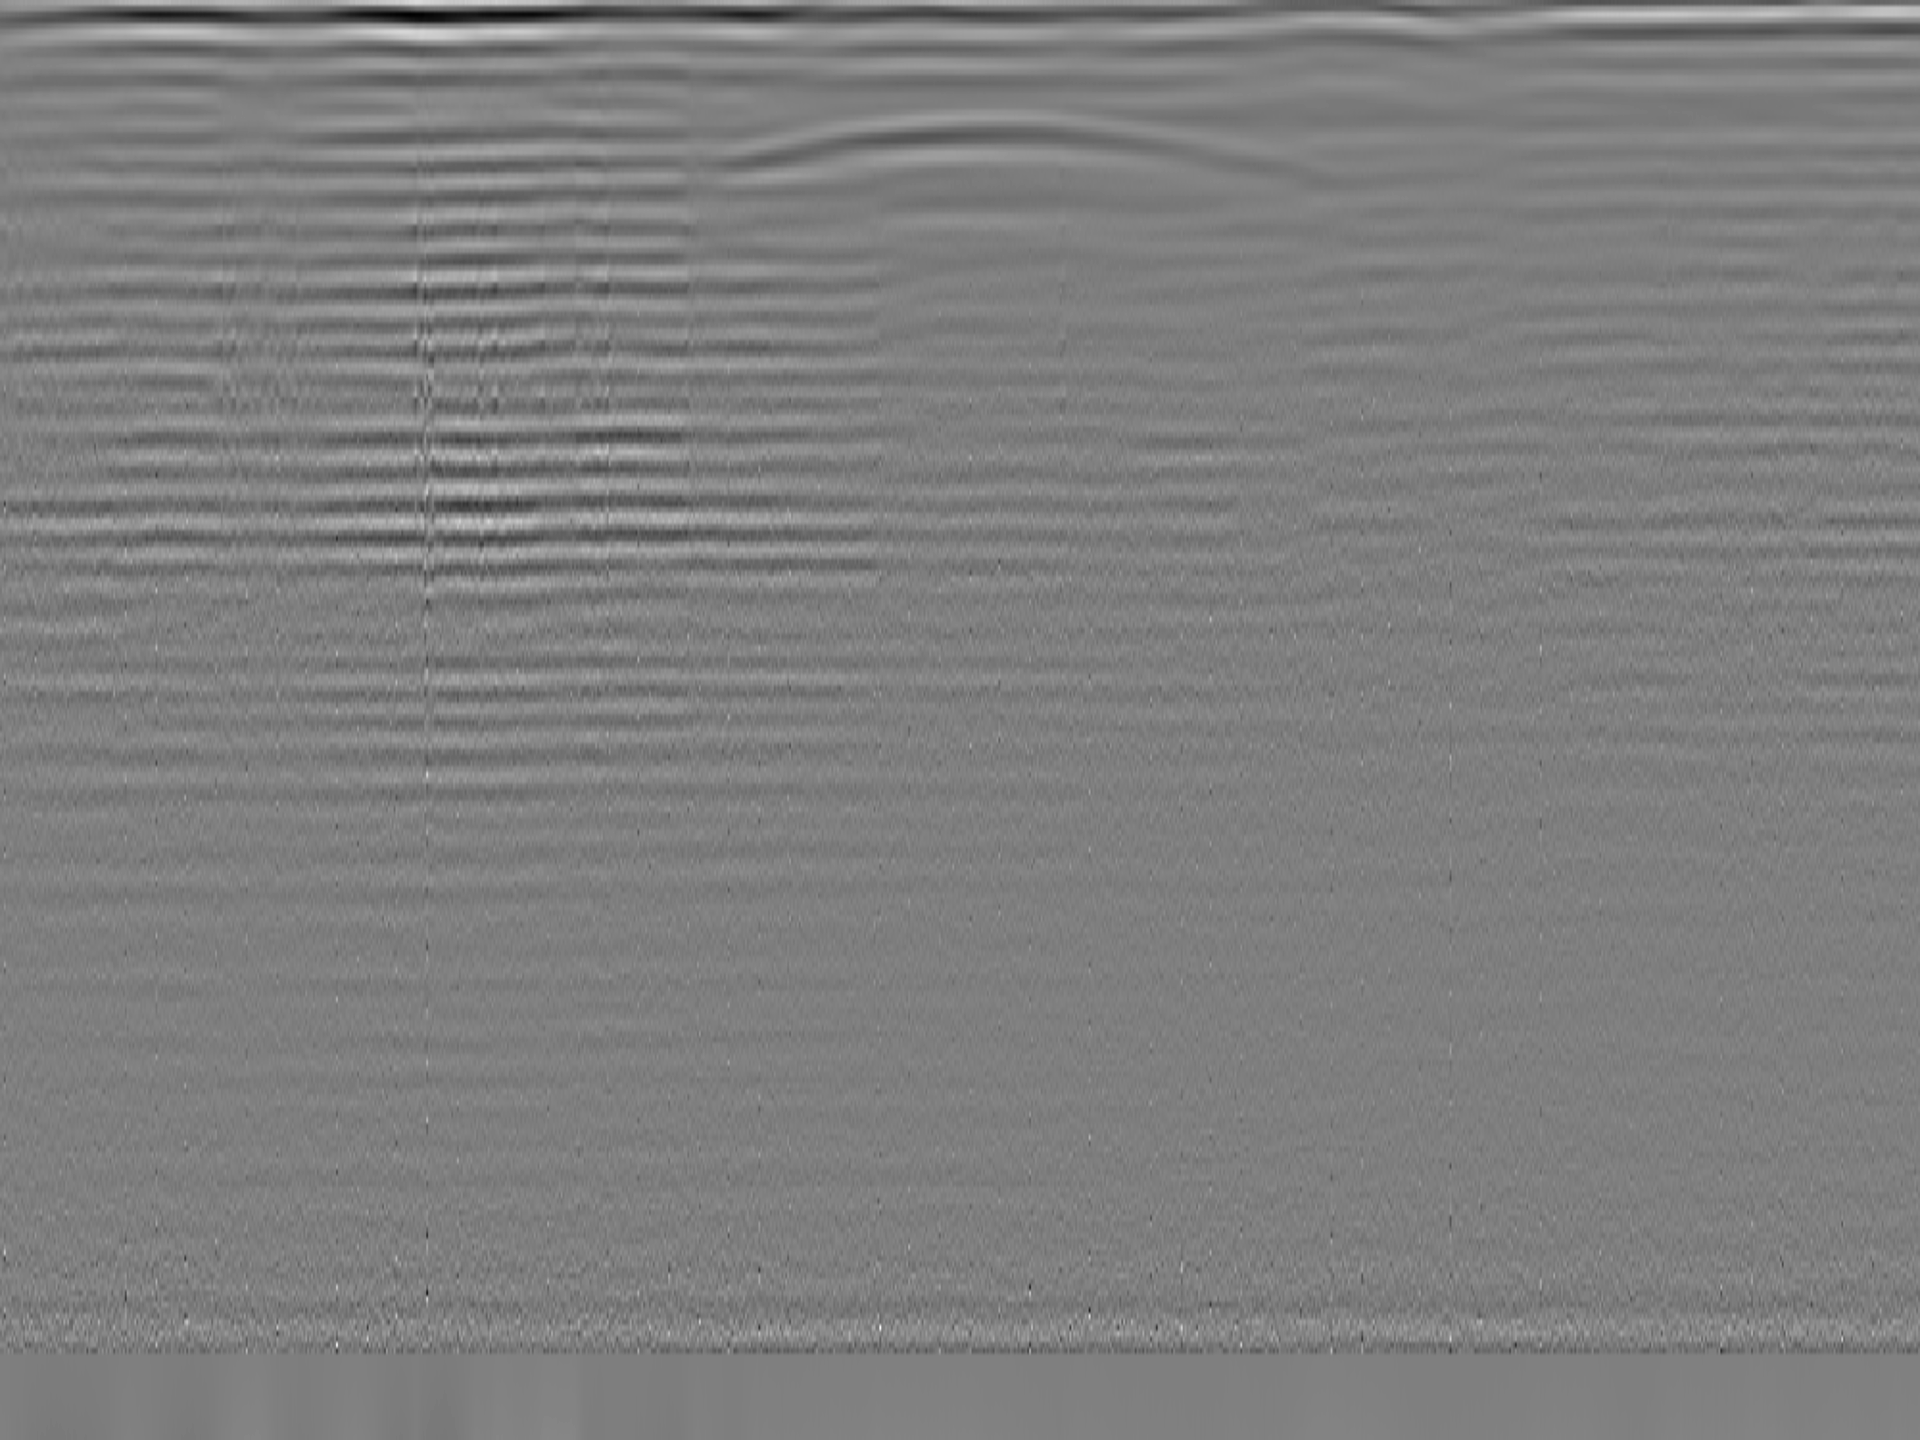Tunnel: (695, 106, 1339, 194)
